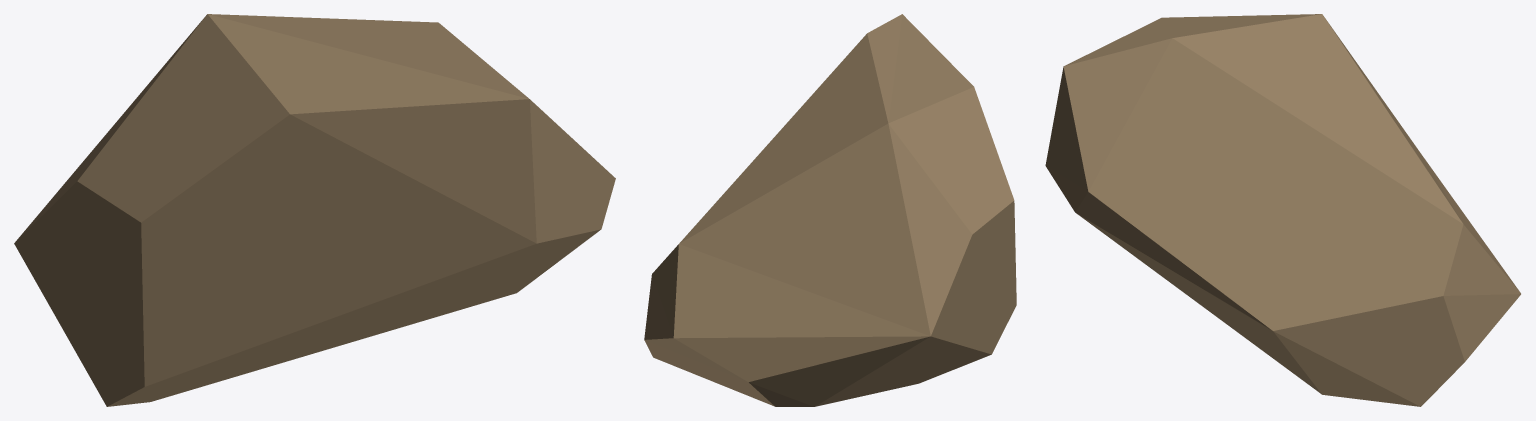
The model's file is Rock18.fbx.
The picture shows the model from 3 angles, left to right: view 1: azimuth 30°, elevation 25°; view 2: azimuth 150°, elevation 25°; view 3: azimuth 270°, elevation 25°; orthographic projection. The views are drawn at different scales.
Visible parts, largest first — view 1: Rock18; view 2: Rock18; view 3: Rock18.
Boxes of the visible parts, <box> form: Rock18: <box>14,14,615,406</box>; Rock18: <box>644,14,1016,406</box>; Rock18: <box>1045,14,1520,406</box>.
Bounding box in the file's own units: 9.24 × 7.96 × 11.08.
